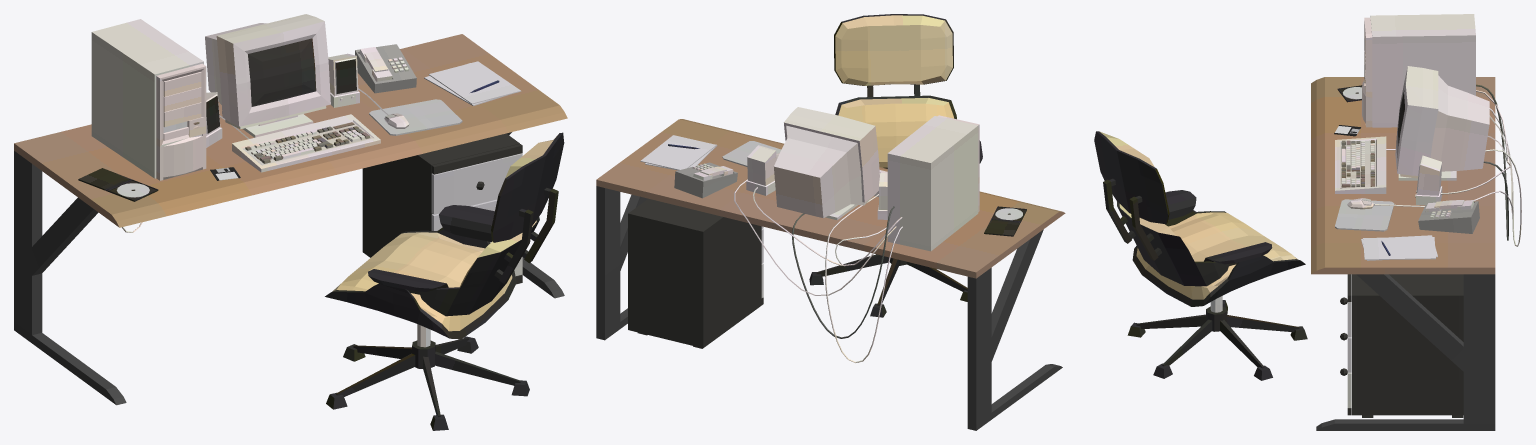
The model's file is computer-optimized-transformed.glb.
3 views of the same model, side by side, from view 1: azimuth 30°, elevation 25°; view 2: azimuth 150°, elevation 25°; view 3: azimuth 270°, elevation 25° (orthographic). The views are drawn at different scales.
Parts seen in each view (by area): view 1: Cube.000_ComputerDesk_0.001; view 2: Cube.000_ComputerDesk_0.001; view 3: Cube.000_ComputerDesk_0.001.
Boxes of the visible parts, box(x1,y1,x2,y2) form: Cube.000_ComputerDesk_0.001: box(14, 14, 567, 430); Cube.000_ComputerDesk_0.001: box(596, 14, 1065, 430); Cube.000_ComputerDesk_0.001: box(1094, 14, 1521, 430).
Size of the model in its own units: 188 by 116 by 178.
Materials: 2 (2 with a texture image).
